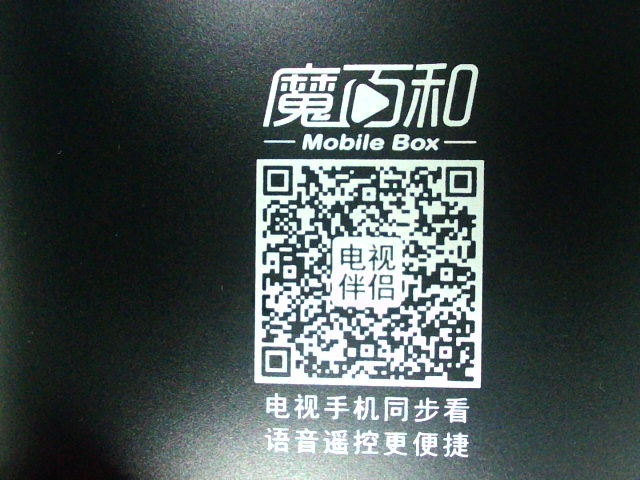AZ_MobileBox: (235, 56, 501, 463)
